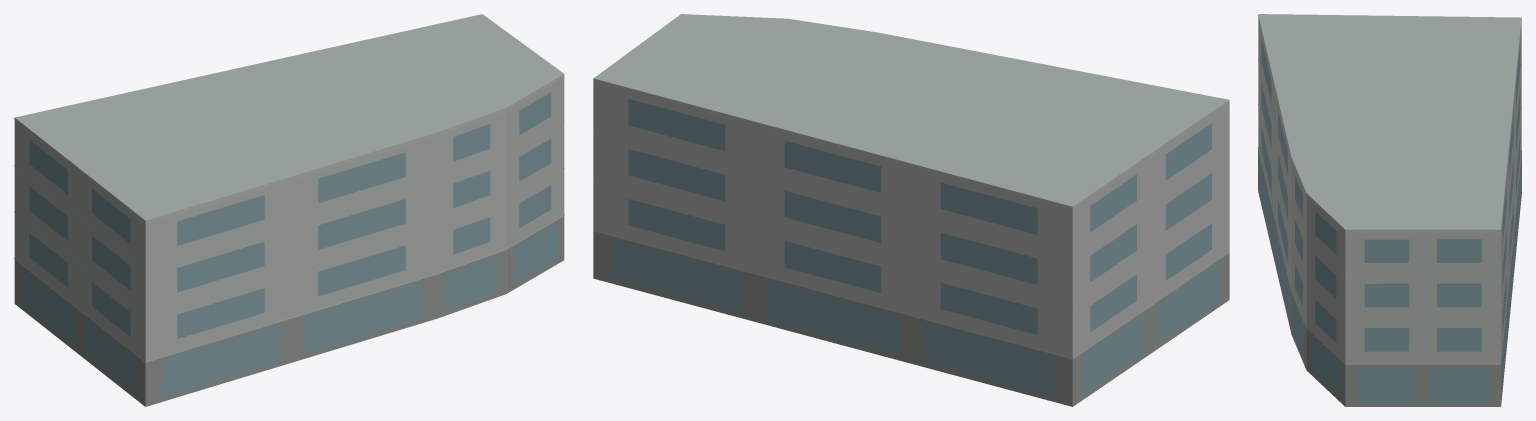
The model's file is survey-upis-32500633.glb.
3 views of the same model, side by side, from view 1: azimuth 30°, elevation 25°; view 2: azimuth 150°, elevation 25°; view 3: azimuth 270°, elevation 25° (orthographic). The views are drawn at different scales.
Parts seen in each view (by area): view 1: survey-upis-32500633.tmp; view 2: survey-upis-32500633.tmp; view 3: survey-upis-32500633.tmp.
Part boxes in pixels (left/top/right/bottom): survey-upis-32500633.tmp: left=14, top=14, right=564, bottom=406; survey-upis-32500633.tmp: left=593, top=14, right=1229, bottom=406; survey-upis-32500633.tmp: left=1258, top=14, right=1521, bottom=406.
Bounding box in the file's own units: 31.88 × 12.2 × 16.47.
